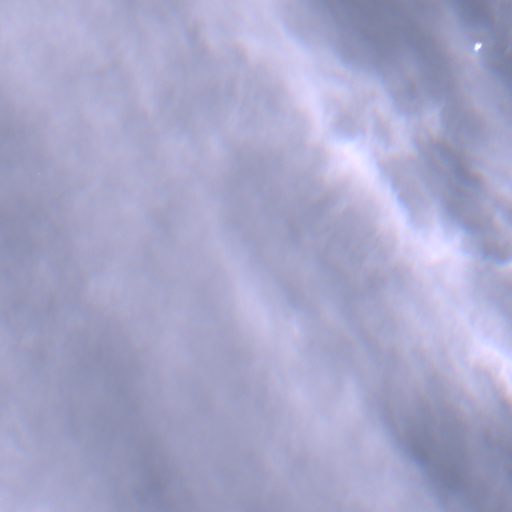Iceberg: (474, 43, 481, 50)
